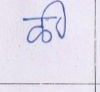i_matra: (45, 1, 69, 39)
